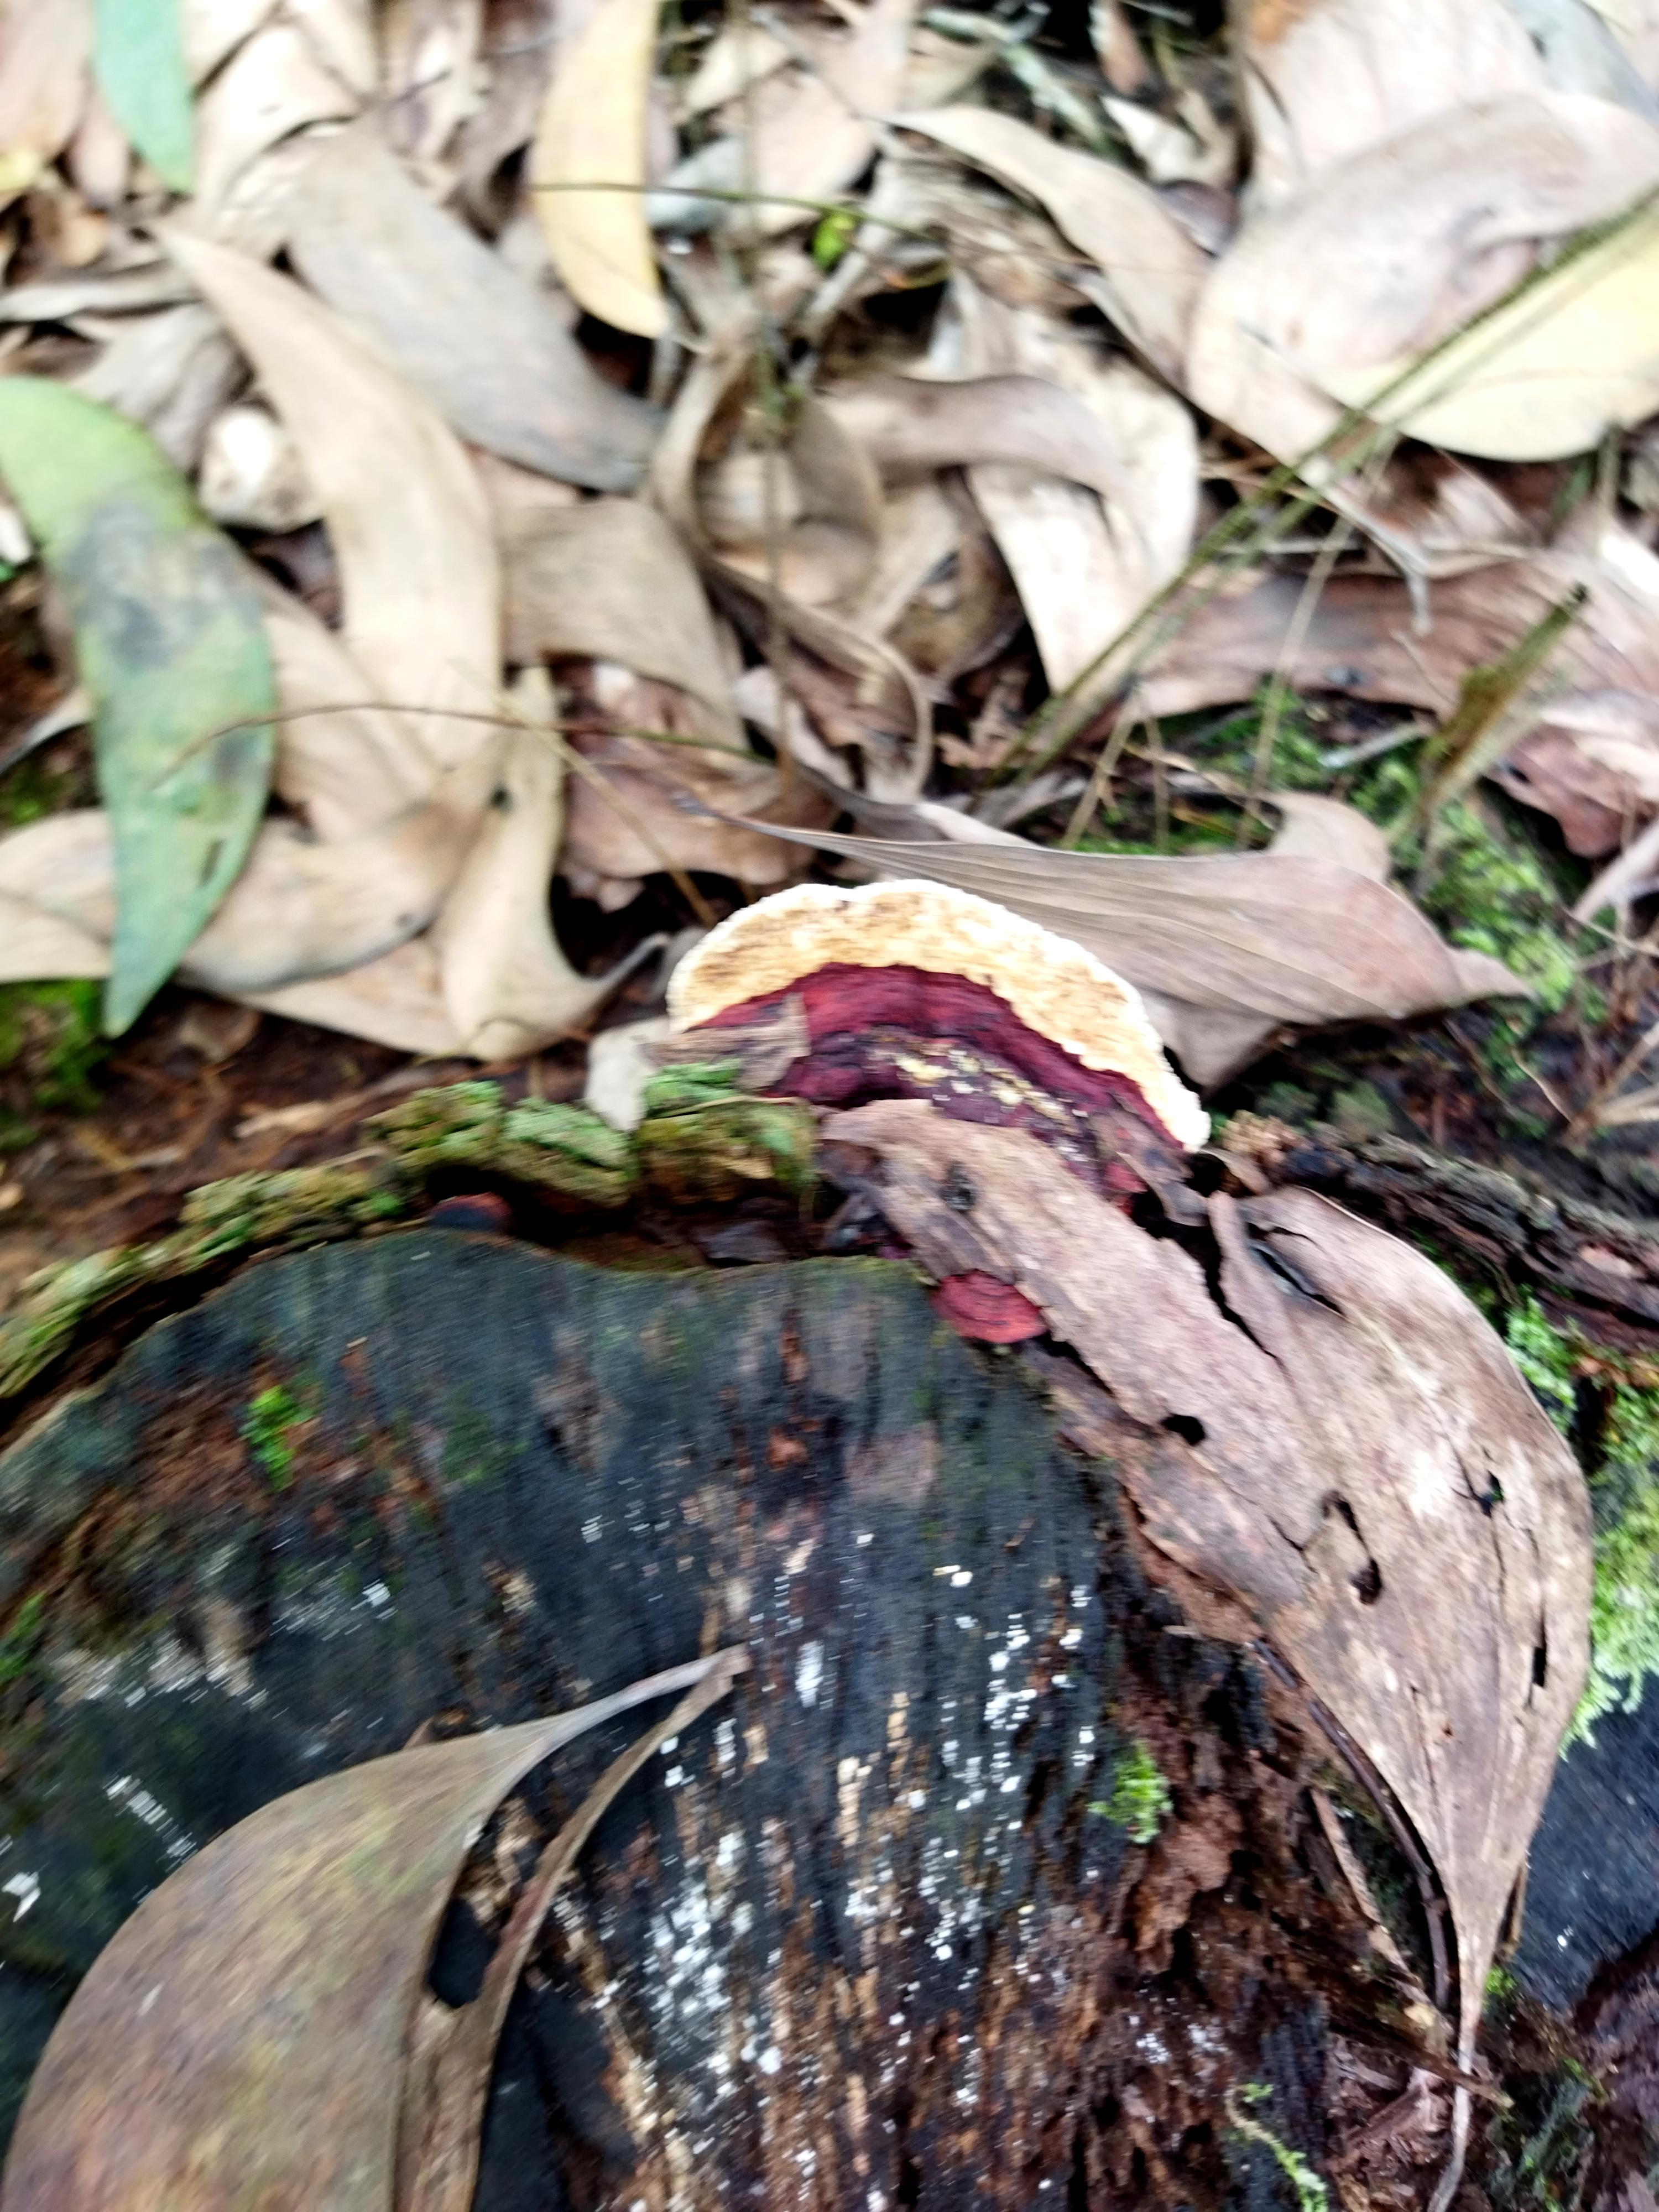Ganoderma - Fruit Body: (664, 892, 1239, 1221)
